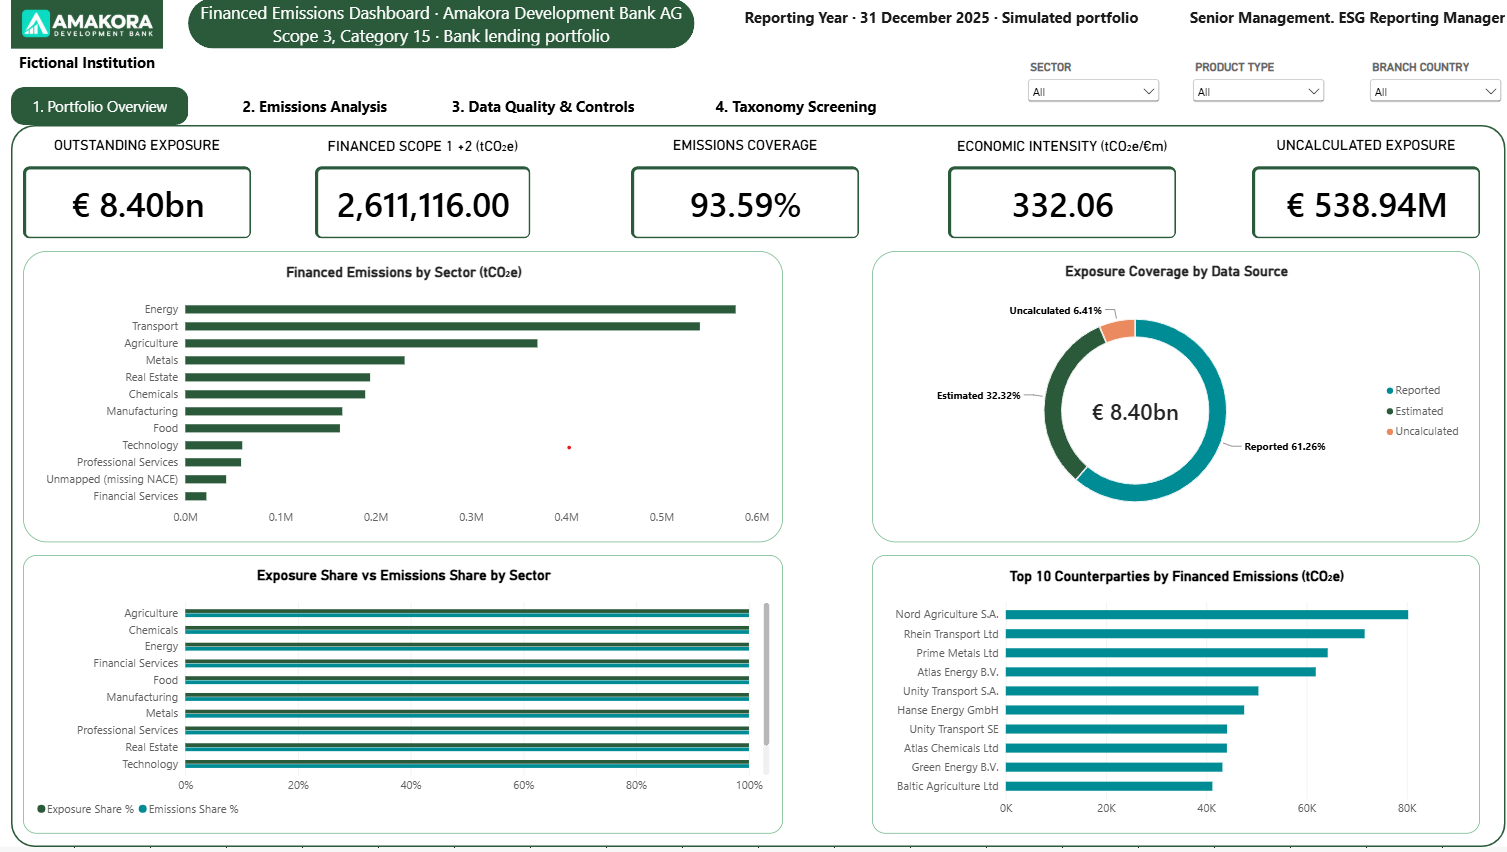

This screenshot's page, from the dashboard's own definition file:
{"tool":"powerbi","page":{"name":"Overview page","canvas":[1920,1080],"ordinal":0},"visuals":[{"type":"shape","box":[0,0,1920,1072],"z":0},{"type":"shape","box":[240,0,640,64],"z":1000},{"type":"shape","box":[896,0,592,48],"z":2000},{"type":"shape","box":[16,112,224,48],"z":3000},{"type":"shape","box":[16,160,1888,912],"z":4000},{"type":"cardVisual","title":"OUTSTANDING EXPOSURE","fields":{"Data":["FCT_Loan_Exposures_Valid.Total Valid Exposure EUR"]},"box":[32,176,288,128],"z":5000},{"type":"cardVisual","title":"FINANCED SCOPE 1 +2 (tCO₂e)","fields":{"Data":["FCT_Portfolio_Calculated.Financed Emissions MtCO2e"]},"box":[400,176,272,128],"z":6000},{"type":"cardVisual","title":"EMISSIONS COVERAGE","fields":{"Data":["FCT_Portfolio_Calculated.Emissions Coverage %"]},"box":[800,176,288,128],"z":7000},{"type":"cardVisual","title":"ECONOMIC  INTENSITY (tCO₂e/€m)","fields":{"Data":["FCT_Portfolio_Calculated.Economic Intensity tCO2e per EURm"]},"box":[1200,176,288,128],"z":8000},{"type":"cardVisual","title":"UNCALCULATED EXPOSURE","fields":{"Data":["FCT_Portfolio_Calculated.Uncalculated Exposure EUR"]},"box":[1584,176,288,128],"z":9000},{"type":"clusteredBarChart","title":"Financed Emissions by Sector (tCO₂e)","fields":{"Category":["FCT_Portfolio_Calculated.Mapped Sector"],"Y":["FCT_Portfolio_Calculated.Financed Emissions ktCO2e"]},"box":[32,320,960,368],"z":10000},{"type":"shape","box":[288,112,224,48],"z":11000},{"type":"slicer","fields":{"Values":["STG_Counterparties.sector_reported"]},"box":[1296,80,176,64],"z":12000},{"type":"donutChart","title":"Exposure Coverage by Data Source","fields":{"Category":["FCT_Portfolio_Calculated.Coverage Category"],"Y":["FCT_Portfolio_Calculated.Portfolio Exposure EUR"]},"box":[1104,320,768,368],"z":13000},{"type":"slicer","fields":{"Values":["FCT_Portfolio_Calculated.product_type"]},"box":[1504,80,176,64],"z":14000},{"type":"slicer","fields":{"Values":["FCT_Portfolio_Calculated.branch_country"]},"box":[1728,80,176,64],"z":15000},{"type":"clusteredBarChart","title":"Exposure Share vs Emissions Share by Sector","fields":{"Category":["FCT_Portfolio_Calculated.Mapped Sector"],"Y":["FCT_Portfolio_Calculated.Exposure Share %","FCT_Portfolio_Calculated.Emissions Share %"]},"box":[32,704,960,352],"z":16000},{"type":"shape","box":[544,112,288,48],"z":17000},{"type":"clusteredBarChart","title":"Top 10 Counterparties by Financed Emissions (tCO₂e)","fields":{"Category":["STG_Counterparties.company_name"],"Y":["FCT_Portfolio_Calculated.Financed Emissions ktCO2e"]},"box":[1104,704,768,352],"z":18000},{"type":"shape","box":[1504,0,400,48],"z":19000},{"type":"image","box":[16,0,192,64],"z":20000},{"type":"shape","box":[864,112,288,48],"z":21000},{"type":"shape","box":[16,64,192,32],"z":22000}]}

Visuals, with their boxes in screenshot pixels (x1, y1, x2, y2), scaled from the page's 1920x1080 canvas onto the 1507x852 screenshot:
shape: bbox=(0, 0, 1506, 846)
shape: bbox=(188, 0, 691, 50)
shape: bbox=(703, 0, 1168, 38)
shape: bbox=(13, 88, 188, 126)
shape: bbox=(13, 126, 1494, 846)
"OUTSTANDING EXPOSURE" cardVisual: bbox=(25, 139, 251, 240)
"FINANCED SCOPE 1 +2 (tCO₂e)" cardVisual: bbox=(314, 139, 527, 240)
"EMISSIONS COVERAGE" cardVisual: bbox=(628, 139, 854, 240)
"ECONOMIC  INTENSITY (tCO₂e/€m)" cardVisual: bbox=(942, 139, 1168, 240)
"UNCALCULATED EXPOSURE" cardVisual: bbox=(1243, 139, 1469, 240)
"Financed Emissions by Sector (tCO₂e)" clusteredBarChart: bbox=(25, 252, 779, 543)
shape: bbox=(226, 88, 402, 126)
slicer - STG_Counterparties.sector_reported: bbox=(1017, 63, 1155, 114)
"Exposure Coverage by Data Source" donutChart: bbox=(867, 252, 1469, 543)
slicer - FCT_Portfolio_Calculated.product_type: bbox=(1180, 63, 1319, 114)
slicer - FCT_Portfolio_Calculated.branch_country: bbox=(1356, 63, 1494, 114)
"Exposure Share vs Emissions Share by Sector" clusteredBarChart: bbox=(25, 555, 779, 833)
shape: bbox=(427, 88, 653, 126)
"Top 10 Counterparties by Financed Emissions (tCO₂e)" clusteredBarChart: bbox=(867, 555, 1469, 833)
shape: bbox=(1180, 0, 1494, 38)
image: bbox=(13, 0, 163, 50)
shape: bbox=(678, 88, 904, 126)
shape: bbox=(13, 50, 163, 76)
